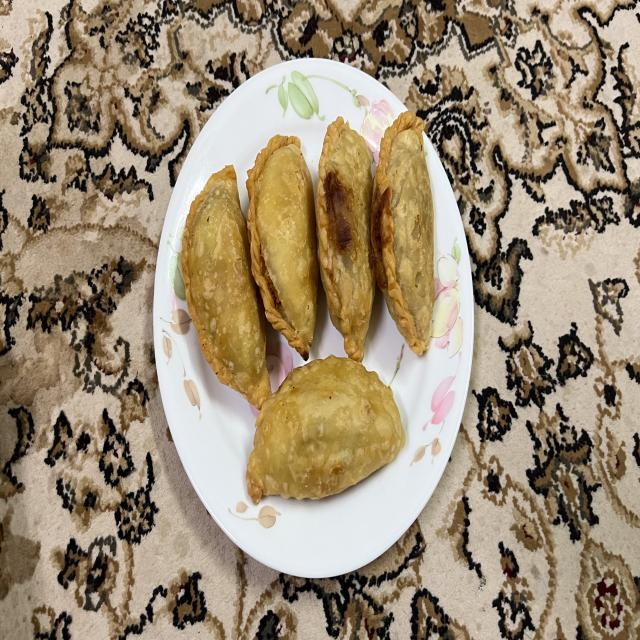karipap: (246, 356, 405, 504), (180, 164, 271, 409), (246, 136, 319, 360), (371, 111, 435, 356), (316, 118, 375, 362), (340, 411, 341, 416)
